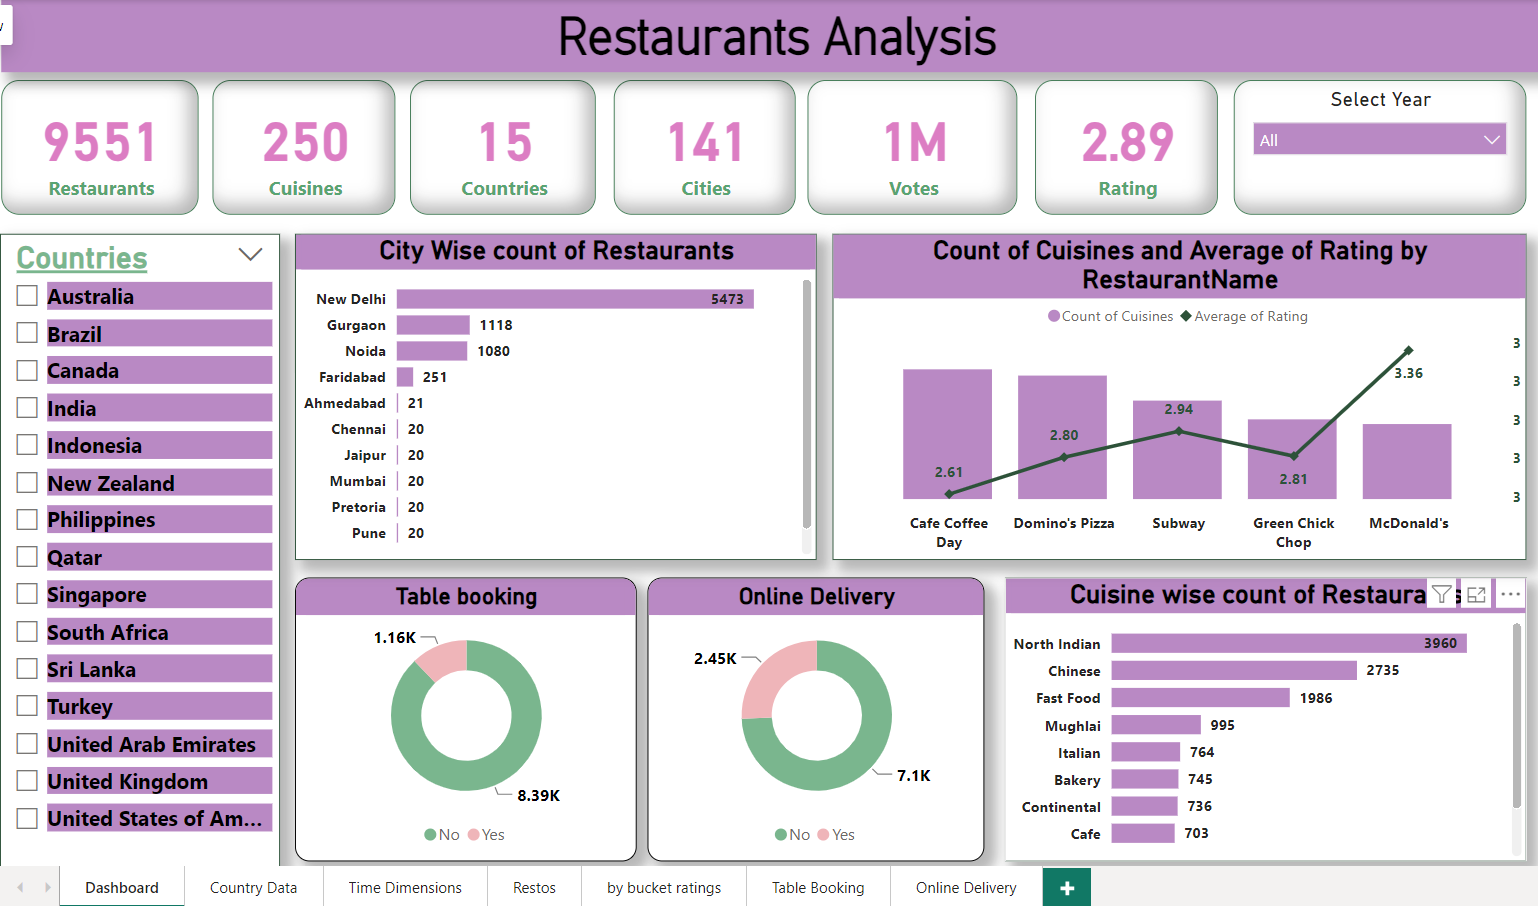

Layout of this report page (visuals, bound fields, positions):
{"tool":"powerbi","page":{"name":"Dashboard","canvas":[1280,720],"ordinal":0},"visuals":[{"type":"slicer","fields":{"Values":["Sheet2.country name"]},"box":[0,194.2,232.6,526.7],"z":0},{"type":"card","fields":{"Values":["CountNonNull(Sheet2.countryID)"]},"box":[340.7,66.3,154.7,111.6],"z":2000},{"type":"card","fields":{"Values":["Min(Sheet1.Cuisines)"]},"box":[176.7,66.3,152.3,111.6],"z":3000},{"type":"card","fields":{"Values":["CountNonNull(Sheet1.RestaurantID)"]},"box":[1.2,66.3,164,111.6],"z":4000},{"type":"card","fields":{"Values":["Min(Sheet1.City)"]},"box":[510.5,66.3,151.2,111.6],"z":5000},{"type":"textbox","box":[1.5,0,1279.2,60.3],"z":6000},{"type":"donutChart","title":"Table booking ","fields":{"Category":["cuisines copy.Has_Table_booking"],"Y":["CountNonNull(cuisines copy.Has_Table_booking)"]},"box":[245.3,480.2,283.7,236],"z":7000},{"type":"donutChart","title":"Online Delivery","fields":{"Category":["cuisines copy.Has_Online_delivery"],"Y":["CountNonNull(cuisines copy.Has_Online_delivery)"]},"box":[538.4,480.2,280.2,236],"z":8000},{"type":"clusteredBarChart","title":"Cuisine wise count of Restaurants","fields":{"Category":["Sheet1.Column"],"Y":["CountNonNull(Sheet1.Cuisines)"]},"box":[834.9,480.2,433.7,236],"z":9000},{"type":"clusteredBarChart","title":"City Wise count of Restaurants","fields":{"Category":["cuisines copy.City"],"Y":["CountNonNull(cuisines copy.RestaurantID)"]},"box":[245.3,194.2,433.7,270.9],"z":10000},{"type":"lineStackedColumnComboChart","fields":{"Category":["cuisines copy.RestaurantName"],"Y":["CountNonNull(cuisines copy.Cuisines)"],"Y2":["Sum(cuisines copy.Rating)"]},"box":[691.9,194.2,576.7,270.9],"z":11000},{"type":"slicer","title":"Select Year","fields":{"Values":["cuisines copy.new datekey.Variation.Date Hierarchy.Year","cuisines copy.new datekey.Variation.Date Hierarchy.Quarter","cuisines copy.new datekey.Variation.Date Hierarchy.Month","cuisines copy.new datekey.Variation.Date Hierarchy.Day"]},"box":[1025.6,66.3,243,111.6],"z":13000},{"type":"card","fields":{"Values":["Sum(cuisines copy.Votes)"]},"box":[670.9,66.3,174.4,111.6],"z":14000},{"type":"card","fields":{"Values":["Sum(cuisines copy.Rating)"]},"box":[860.5,66.3,152.3,111.6],"z":15000}]}

Visuals, with their boxes on the page's 1280x720 design canvas (x1, y1, x2, y2). These are canvas units, not pixel positions in the 1538x906 screenshot, which may show the page scaled, cropped or inside an application window:
slicer - Sheet2.country name: (0, 194, 233, 721)
card - CountNonNull(Sheet2.countryID): (341, 66, 495, 178)
card - Min(Sheet1.Cuisines): (177, 66, 329, 178)
card - CountNonNull(Sheet1.RestaurantID): (1, 66, 165, 178)
card - Min(Sheet1.City): (510, 66, 662, 178)
textbox: (2, 0, 1281, 60)
"Table booking " donutChart: (245, 480, 529, 716)
"Online Delivery" donutChart: (538, 480, 819, 716)
"Cuisine wise count of Restaurants" clusteredBarChart: (835, 480, 1269, 716)
"City Wise count of Restaurants" clusteredBarChart: (245, 194, 679, 465)
lineStackedColumnComboChart - cuisines copy.RestaurantName x CountNonNull(cuisines copy.Cuisines): (692, 194, 1269, 465)
"Select Year" slicer: (1026, 66, 1269, 178)
card - Sum(cuisines copy.Votes): (671, 66, 845, 178)
card - Sum(cuisines copy.Rating): (860, 66, 1013, 178)
